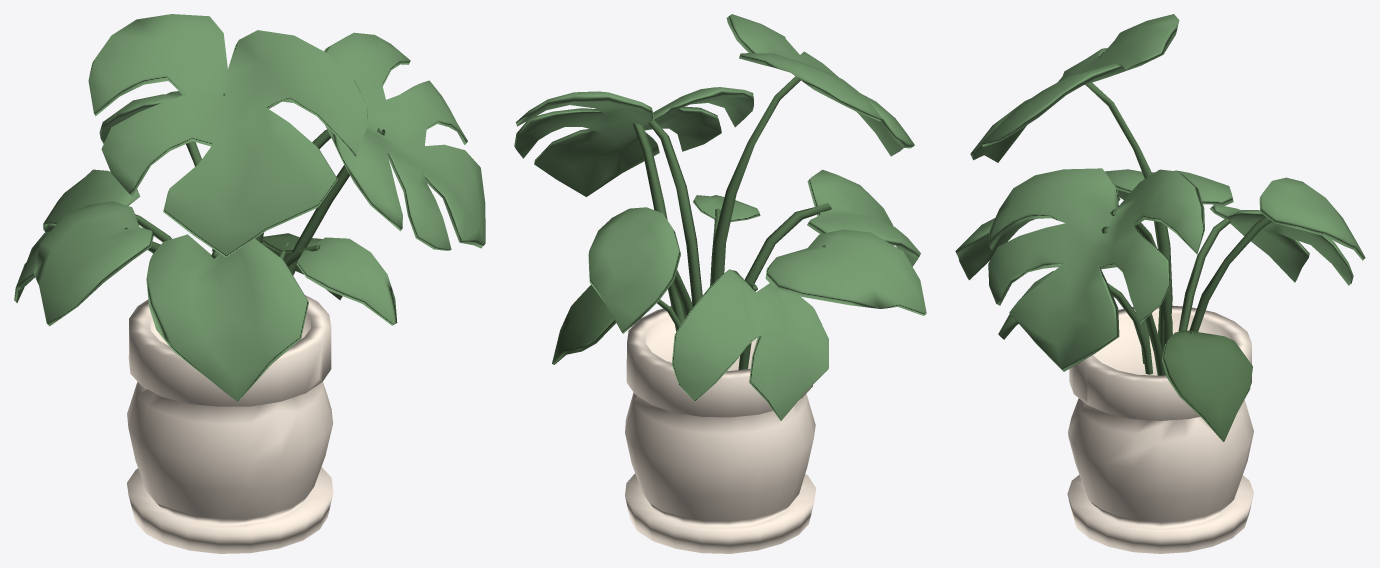
Rendered from monstera.glb.
The picture shows the model from 3 angles, left to right: view 1: azimuth 30°, elevation 25°; view 2: azimuth 150°, elevation 25°; view 3: azimuth 270°, elevation 25°; orthographic projection. The views are drawn at different scales.
Bounding box in the file's own units: 1.08 × 1.23 × 0.9866.
